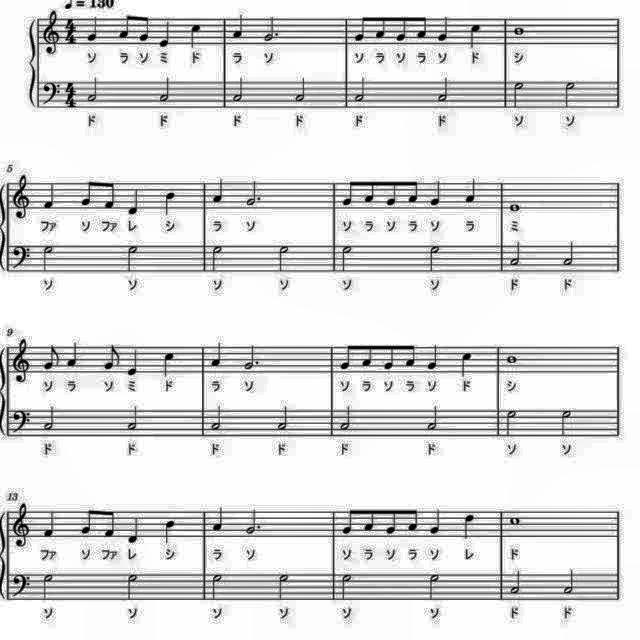Bass-clef: (10, 242, 34, 272), (9, 571, 33, 601), (41, 79, 64, 109), (10, 408, 32, 437)
Eighth-note: (101, 341, 123, 372), (78, 506, 98, 538), (78, 176, 98, 208), (40, 341, 60, 371), (384, 175, 401, 209), (351, 12, 369, 44), (341, 504, 359, 536), (384, 506, 401, 538), (339, 340, 356, 372), (360, 175, 378, 205), (358, 339, 376, 369), (360, 505, 378, 535), (382, 340, 398, 372), (393, 12, 409, 44), (102, 178, 118, 210), (102, 508, 118, 540), (342, 178, 358, 210), (374, 12, 390, 42), (116, 12, 132, 42), (414, 13, 430, 42), (138, 12, 152, 44), (406, 176, 422, 204), (406, 507, 422, 535), (404, 342, 420, 370)
Full-note: (508, 200, 524, 216), (508, 514, 524, 530), (504, 352, 520, 366), (512, 25, 528, 39)
Half-dot: (241, 504, 263, 536), (262, 12, 282, 44), (242, 179, 262, 211), (240, 342, 260, 373)
Half-note: (560, 78, 580, 110), (556, 406, 576, 438), (39, 242, 57, 274), (39, 572, 57, 604), (209, 572, 227, 604), (502, 406, 520, 438), (506, 566, 524, 598), (125, 572, 143, 604), (560, 240, 578, 272), (125, 242, 143, 274), (425, 572, 443, 604), (275, 569, 293, 601), (157, 75, 176, 105), (125, 403, 144, 433), (424, 402, 442, 433), (41, 404, 58, 436), (210, 244, 227, 276), (339, 244, 356, 276), (339, 572, 356, 604), (436, 76, 454, 106), (511, 80, 529, 110), (339, 403, 357, 433), (506, 241, 524, 271), (561, 568, 579, 598), (210, 402, 227, 433), (276, 244, 292, 276), (426, 244, 442, 276), (352, 76, 370, 104), (86, 76, 102, 106), (232, 75, 248, 105), (292, 75, 308, 105), (276, 403, 292, 433)
Quarter-note: (125, 346, 143, 378), (40, 178, 58, 210), (42, 506, 60, 538), (125, 514, 143, 546), (126, 186, 144, 218), (460, 511, 478, 542), (65, 340, 83, 370), (208, 339, 226, 369), (465, 20, 483, 50), (161, 347, 179, 377), (424, 341, 441, 372), (84, 13, 102, 42), (436, 14, 452, 46), (158, 18, 174, 50), (427, 507, 443, 538), (210, 505, 226, 535), (231, 11, 247, 41), (462, 175, 478, 205), (427, 177, 443, 207), (210, 175, 226, 205), (185, 21, 202, 49), (160, 190, 177, 218), (458, 348, 474, 377), (162, 516, 178, 544)
Treble-clef: (12, 171, 36, 221), (11, 500, 34, 548), (10, 335, 32, 385), (40, 7, 60, 57)
